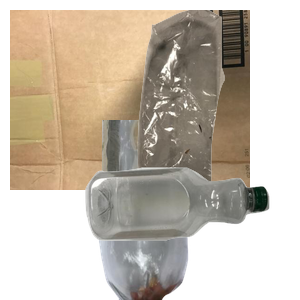cardboard: (10, 10, 250, 190)
glass: (96, 120, 283, 300)
plastic: (83, 165, 300, 300)
trash: (114, 10, 300, 190)
